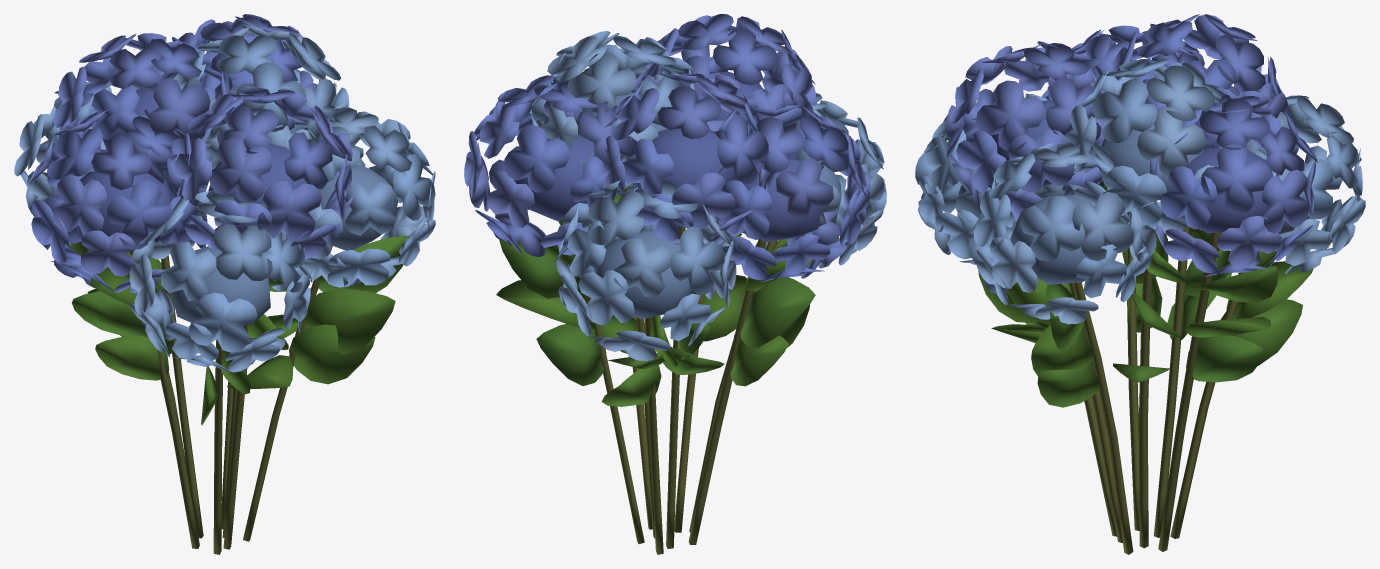
File: bucket_hydrangea.glb
3 renders of one model, left to right at view 1: azimuth 30°, elevation 25°; view 2: azimuth 150°, elevation 25°; view 3: azimuth 270°, elevation 25°, orthographic.
Parts seen in each view (by area): view 1: Sammel Pflanze, Sammel Putz; view 2: Sammel Pflanze, Sammel Putz; view 3: Sammel Pflanze, Sammel Putz.
Part boxes in pixels (bbox=[...]): Sammel Pflanze: bbox=[14, 14, 435, 425]; Sammel Putz: bbox=[130, 245, 332, 554]; Sammel Pflanze: bbox=[464, 14, 886, 406]; Sammel Putz: bbox=[586, 185, 777, 554]; Sammel Pflanze: bbox=[915, 14, 1365, 407]; Sammel Putz: bbox=[1068, 211, 1246, 554].
Size of the model in its own units: 0.3771 by 0.5078 by 0.4151.
